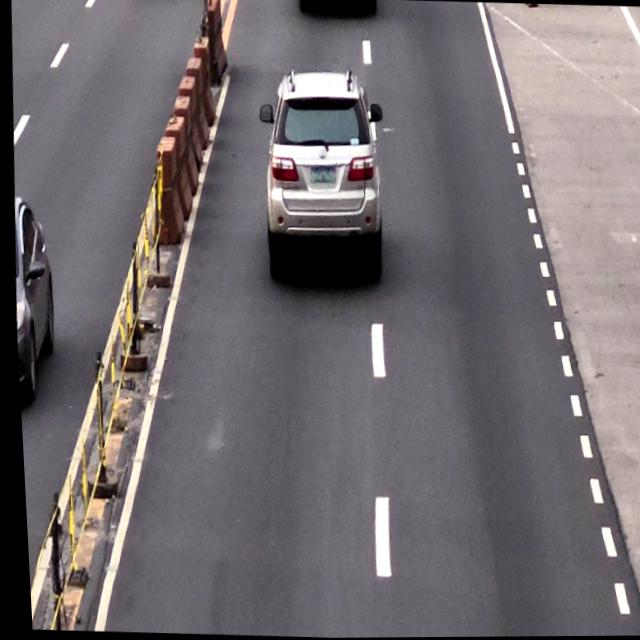Car: (257, 70, 381, 280)
License-Plate: (307, 166, 336, 184)
